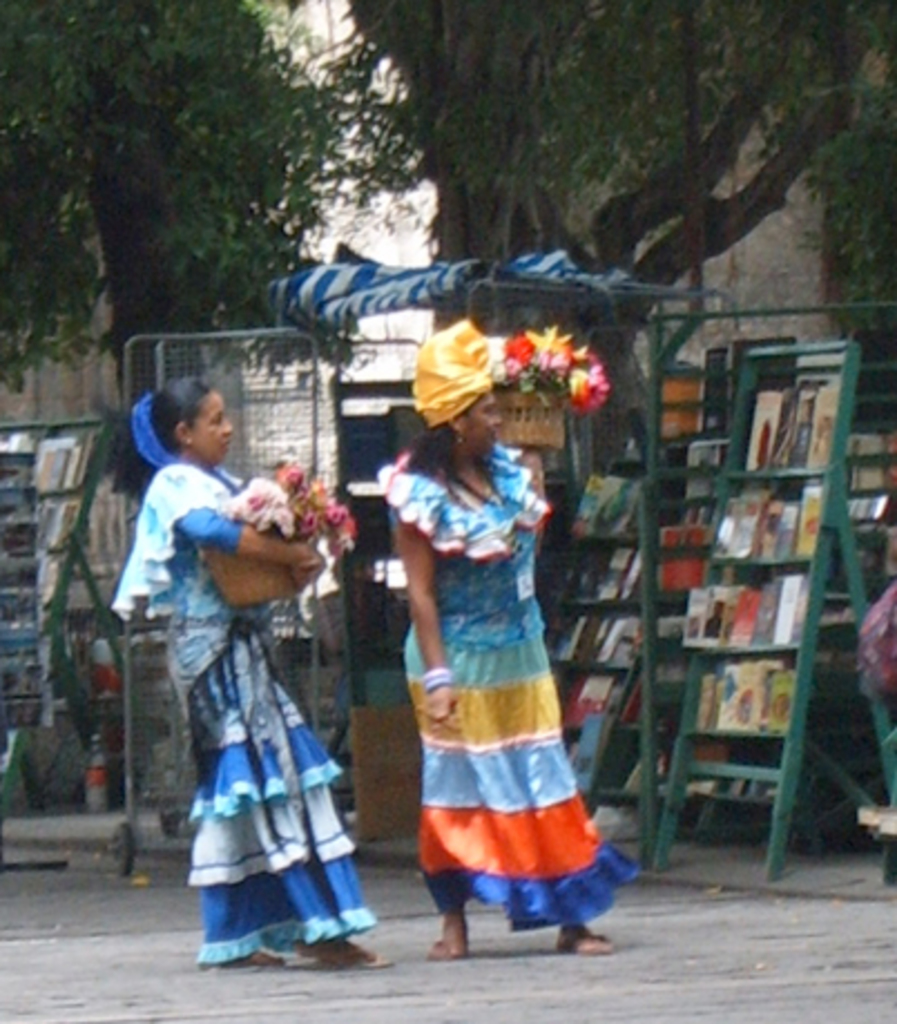Book: (518, 355, 895, 814)
